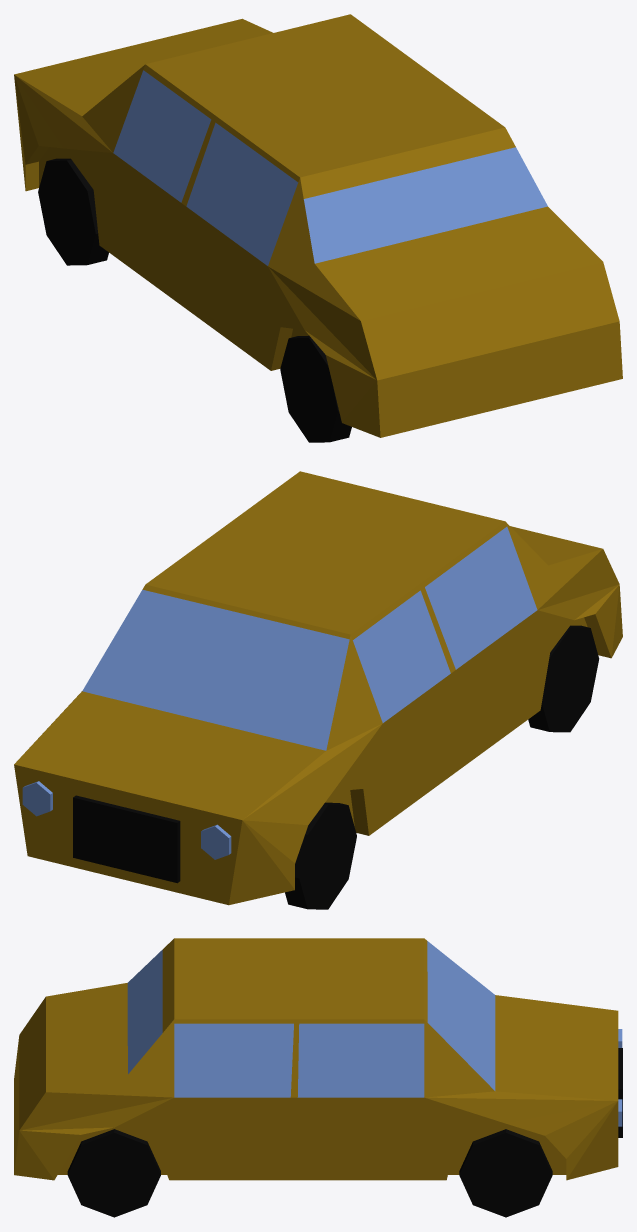
File: Car_Yellow.obj
3 renders of one model, top to bottom at view 1: azimuth 30°, elevation 25°; view 2: azimuth 150°, elevation 25°; view 3: azimuth 270°, elevation 25°, orthographic. The views are drawn at different scales.
Visible parts, largest first — view 1: Cube; view 2: Cube; view 3: Cube.
Part boxes in pixels (x1,y1,x2,y2): Cube: (14,14,622,442); Cube: (14,471,622,909); Cube: (14,938,622,1217).
Size of the model in its own units: 1.42 by 1.17 by 3.44.
